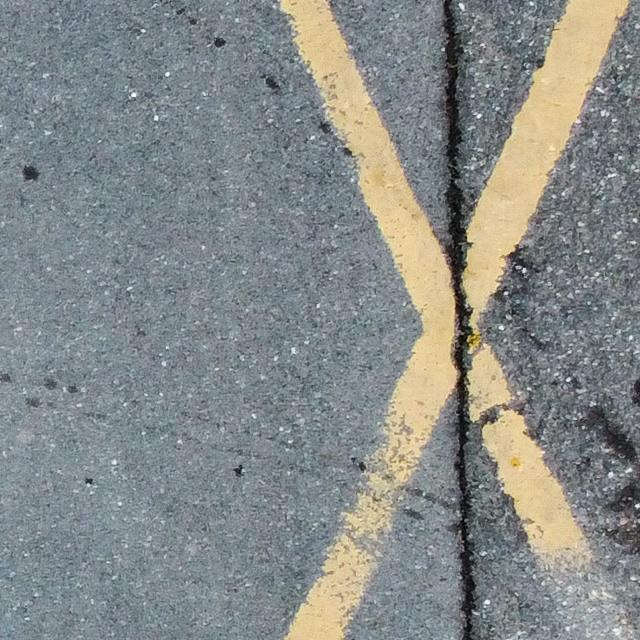LongitudinalCrack: (442, 1, 476, 640)
